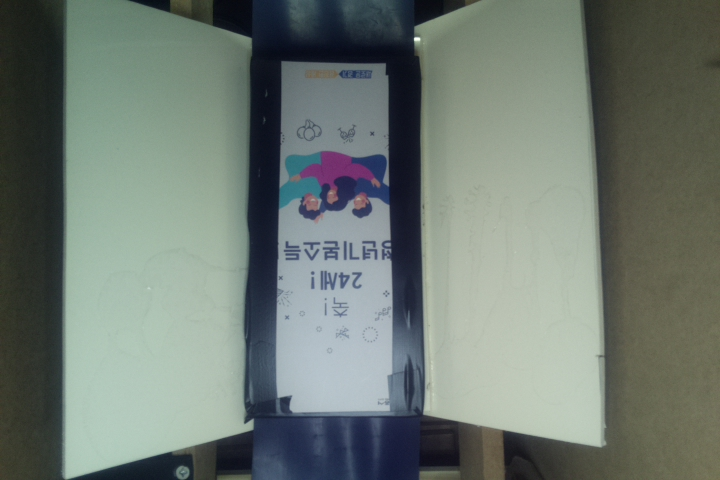book: (246, 50, 419, 419)
